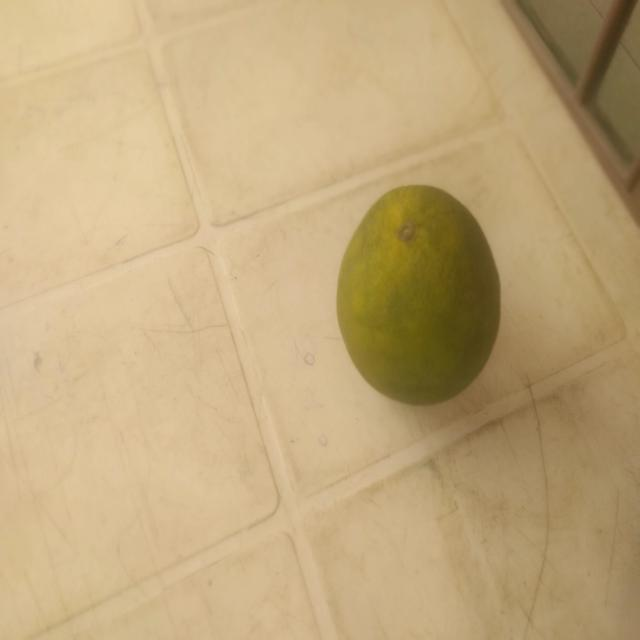Unripe: (316, 165, 535, 439)
